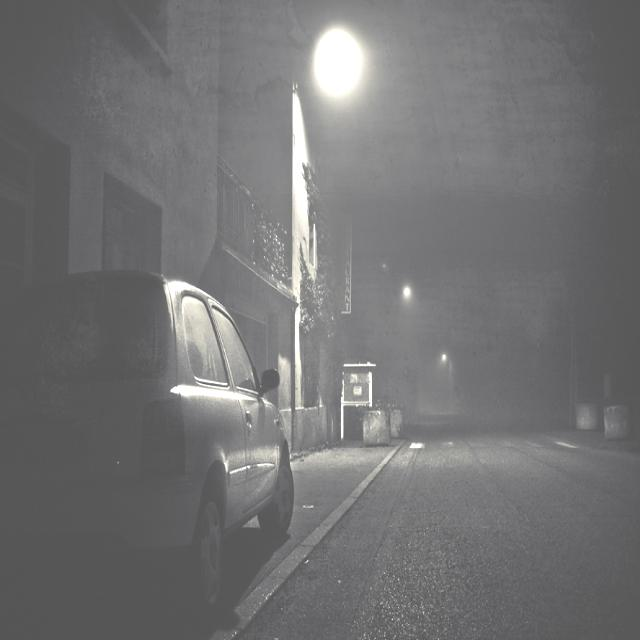Car: (10, 272, 292, 593)
